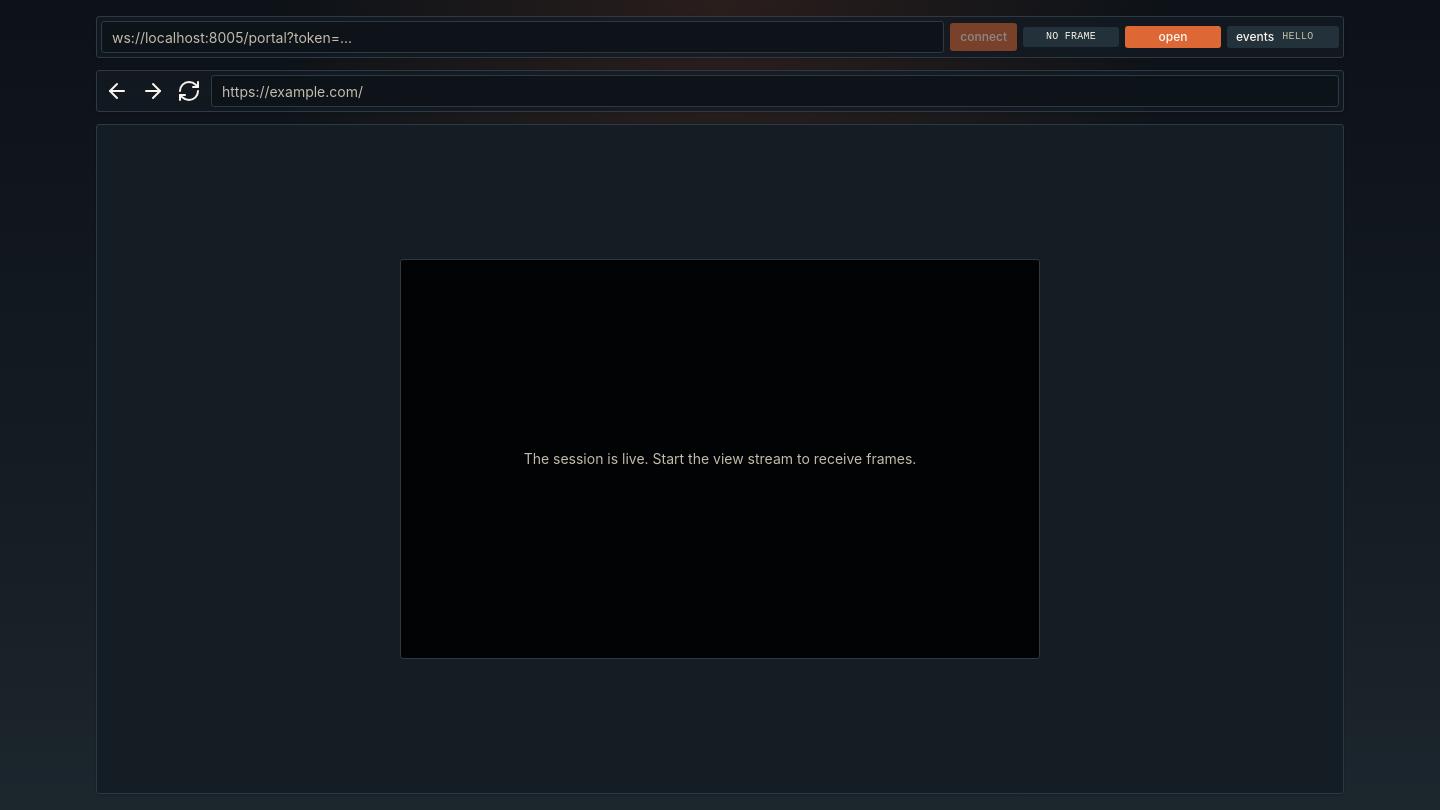
App › shows the events popup on hover and keeps it open when pinned
Hover over the button with test id "events-toolbar-trigger".
mouse_move(1283, 37)  # box x1=1227 y1=26 x2=1339 y2=48
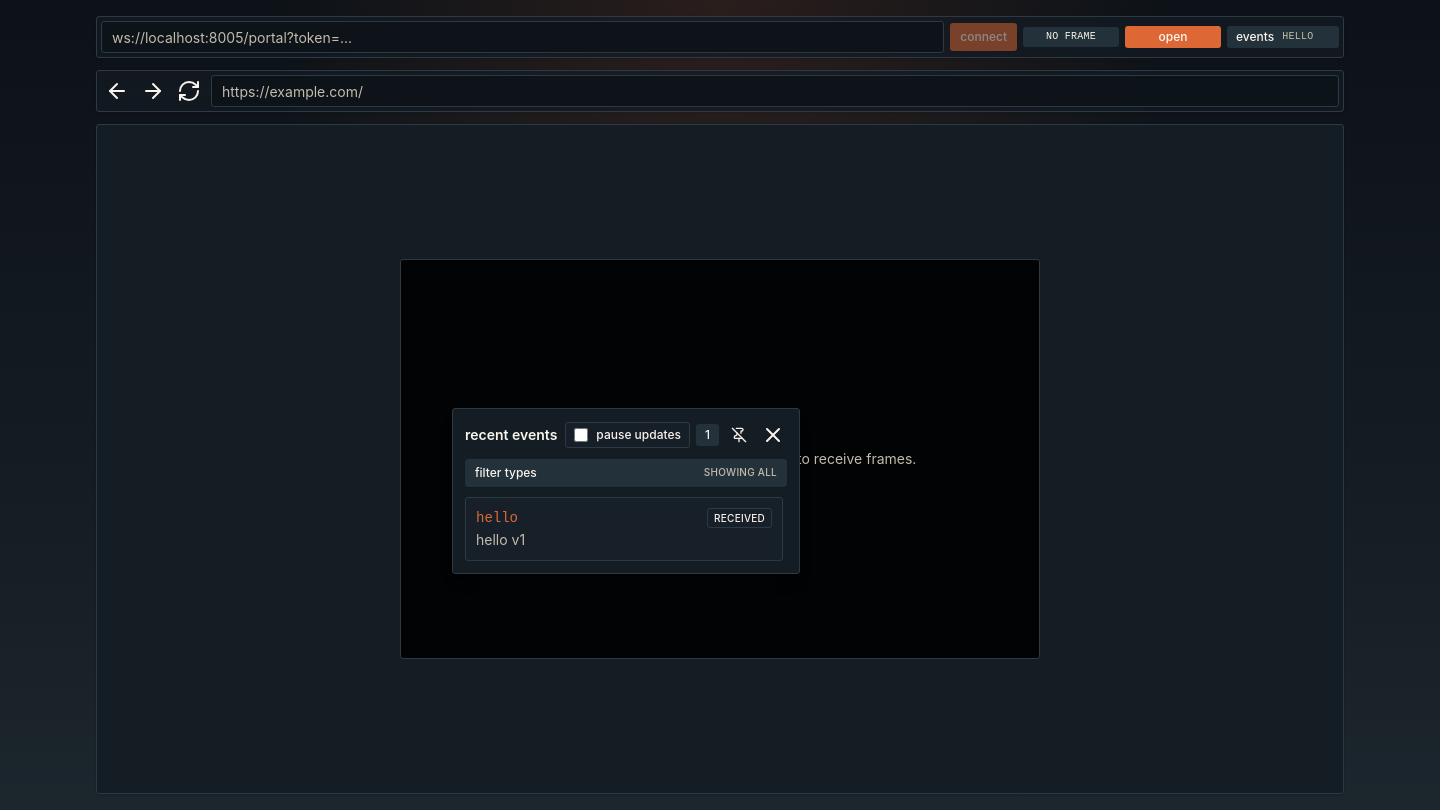
Check: the text "recent events" is shown, box x1=465 y1=428 x2=557 y2=442
Click the button named "pin events".
click(739, 435)  # box x1=725 y1=421 x2=753 y2=449
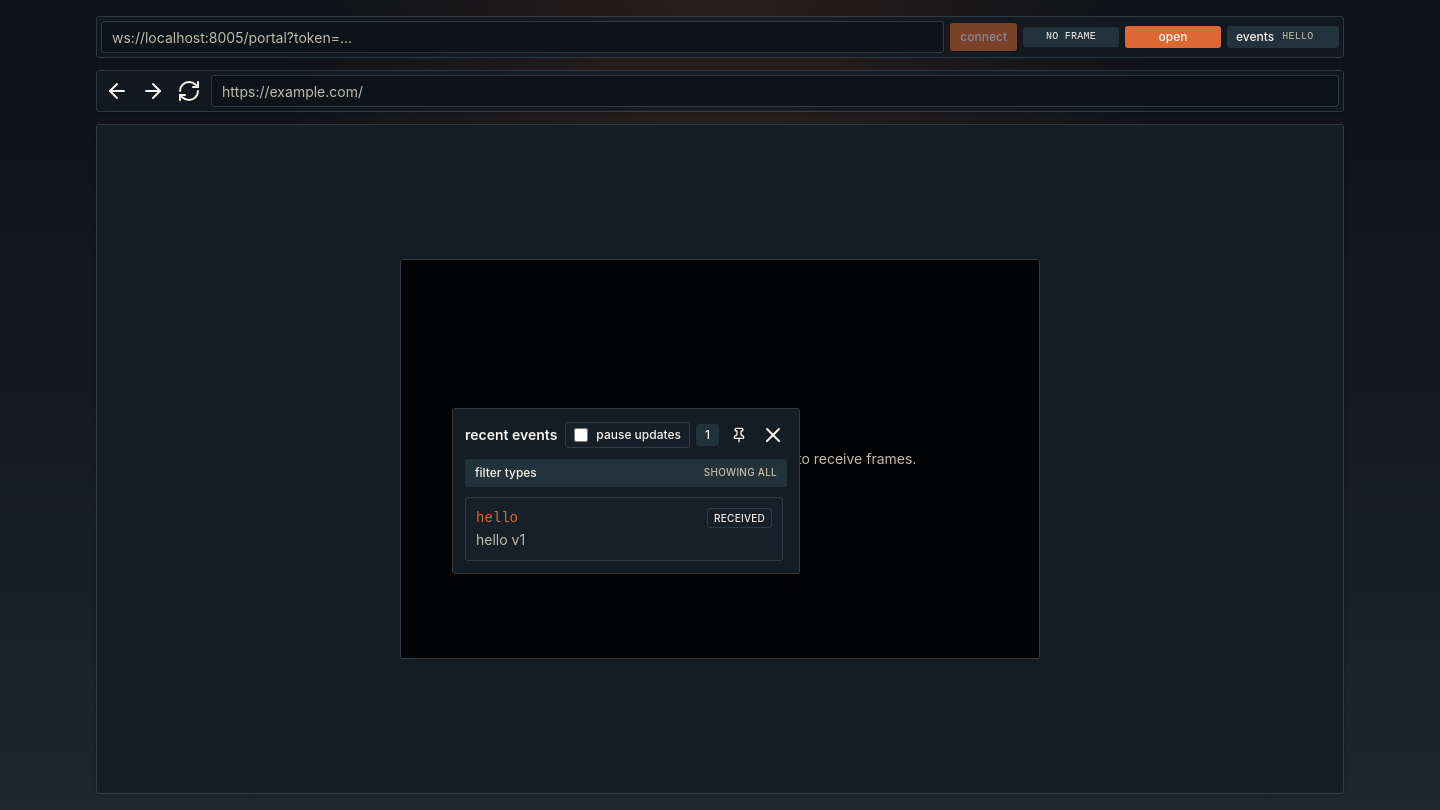
Move the pointer off the button with test id "events-toolbar-trigger", box x1=1227 y1=26 x2=1339 y2=48
Check: the text "recent events" is shown, box x1=465 y1=428 x2=557 y2=442
Click the button named "close events".
click(773, 435)  # box x1=759 y1=421 x2=787 y2=449
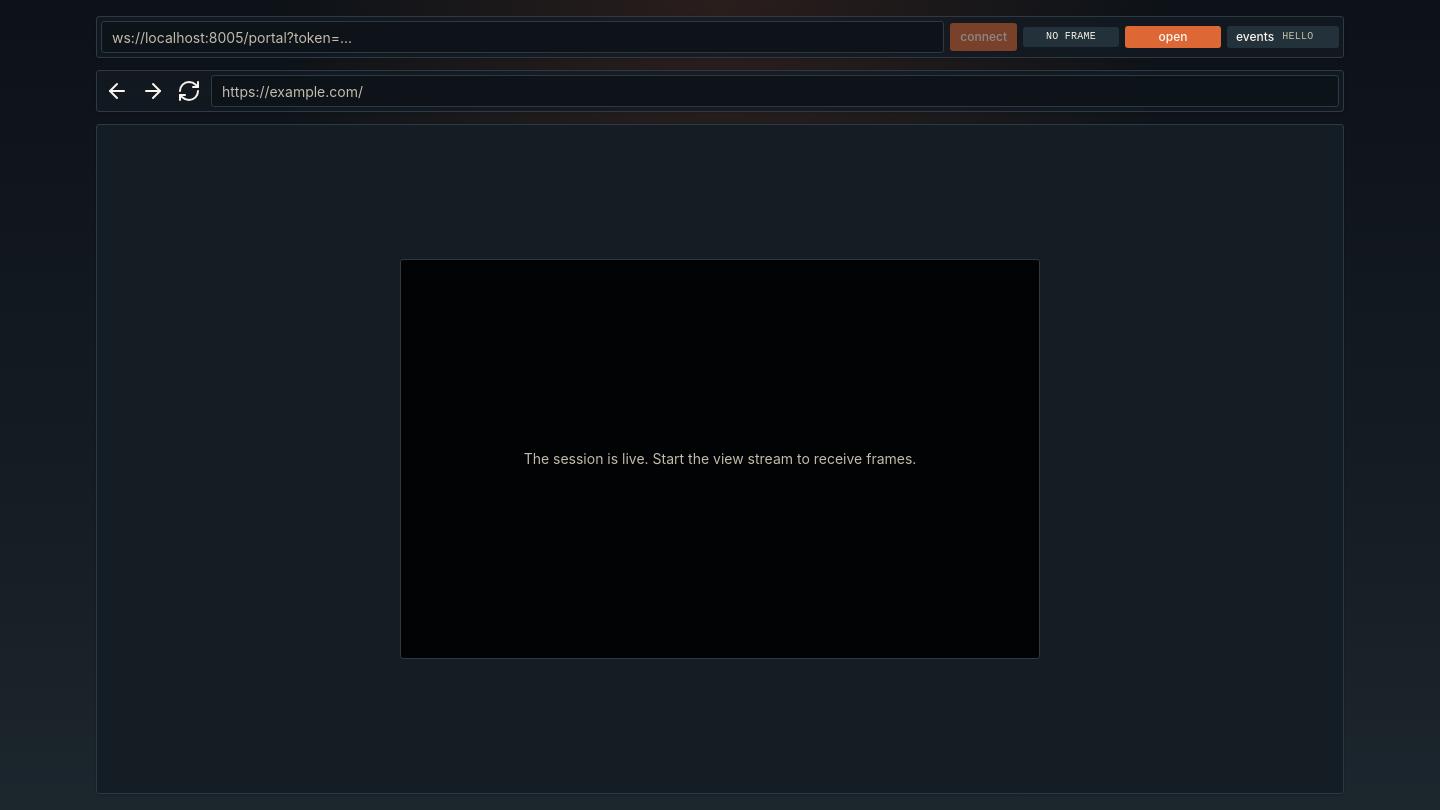
Check: the text "recent events" is gone
